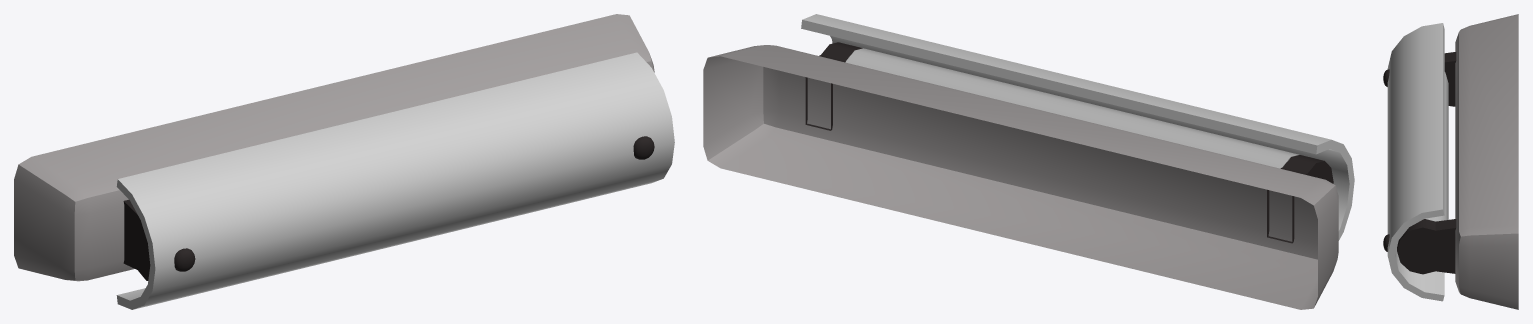
Rendered from SM_Lighting_1.fbx.
The picture shows the model from 3 angles, left to right: view 1: azimuth 30°, elevation 25°; view 2: azimuth 150°, elevation 25°; view 3: azimuth 270°, elevation 25°; orthographic projection. The views are drawn at different scales.
Visible parts, largest first — view 1: SM_Lighting_1; view 2: SM_Lighting_1; view 3: SM_Lighting_1.
Boxes of the visible parts, bbox=[...] form: SM_Lighting_1: bbox=[14, 14, 674, 309]; SM_Lighting_1: bbox=[703, 14, 1354, 309]; SM_Lighting_1: bbox=[1383, 14, 1518, 309].
Size of the model in its own units: 44.23 by 11.38 by 8.53.
Materials: 2 (1 with a texture image).
